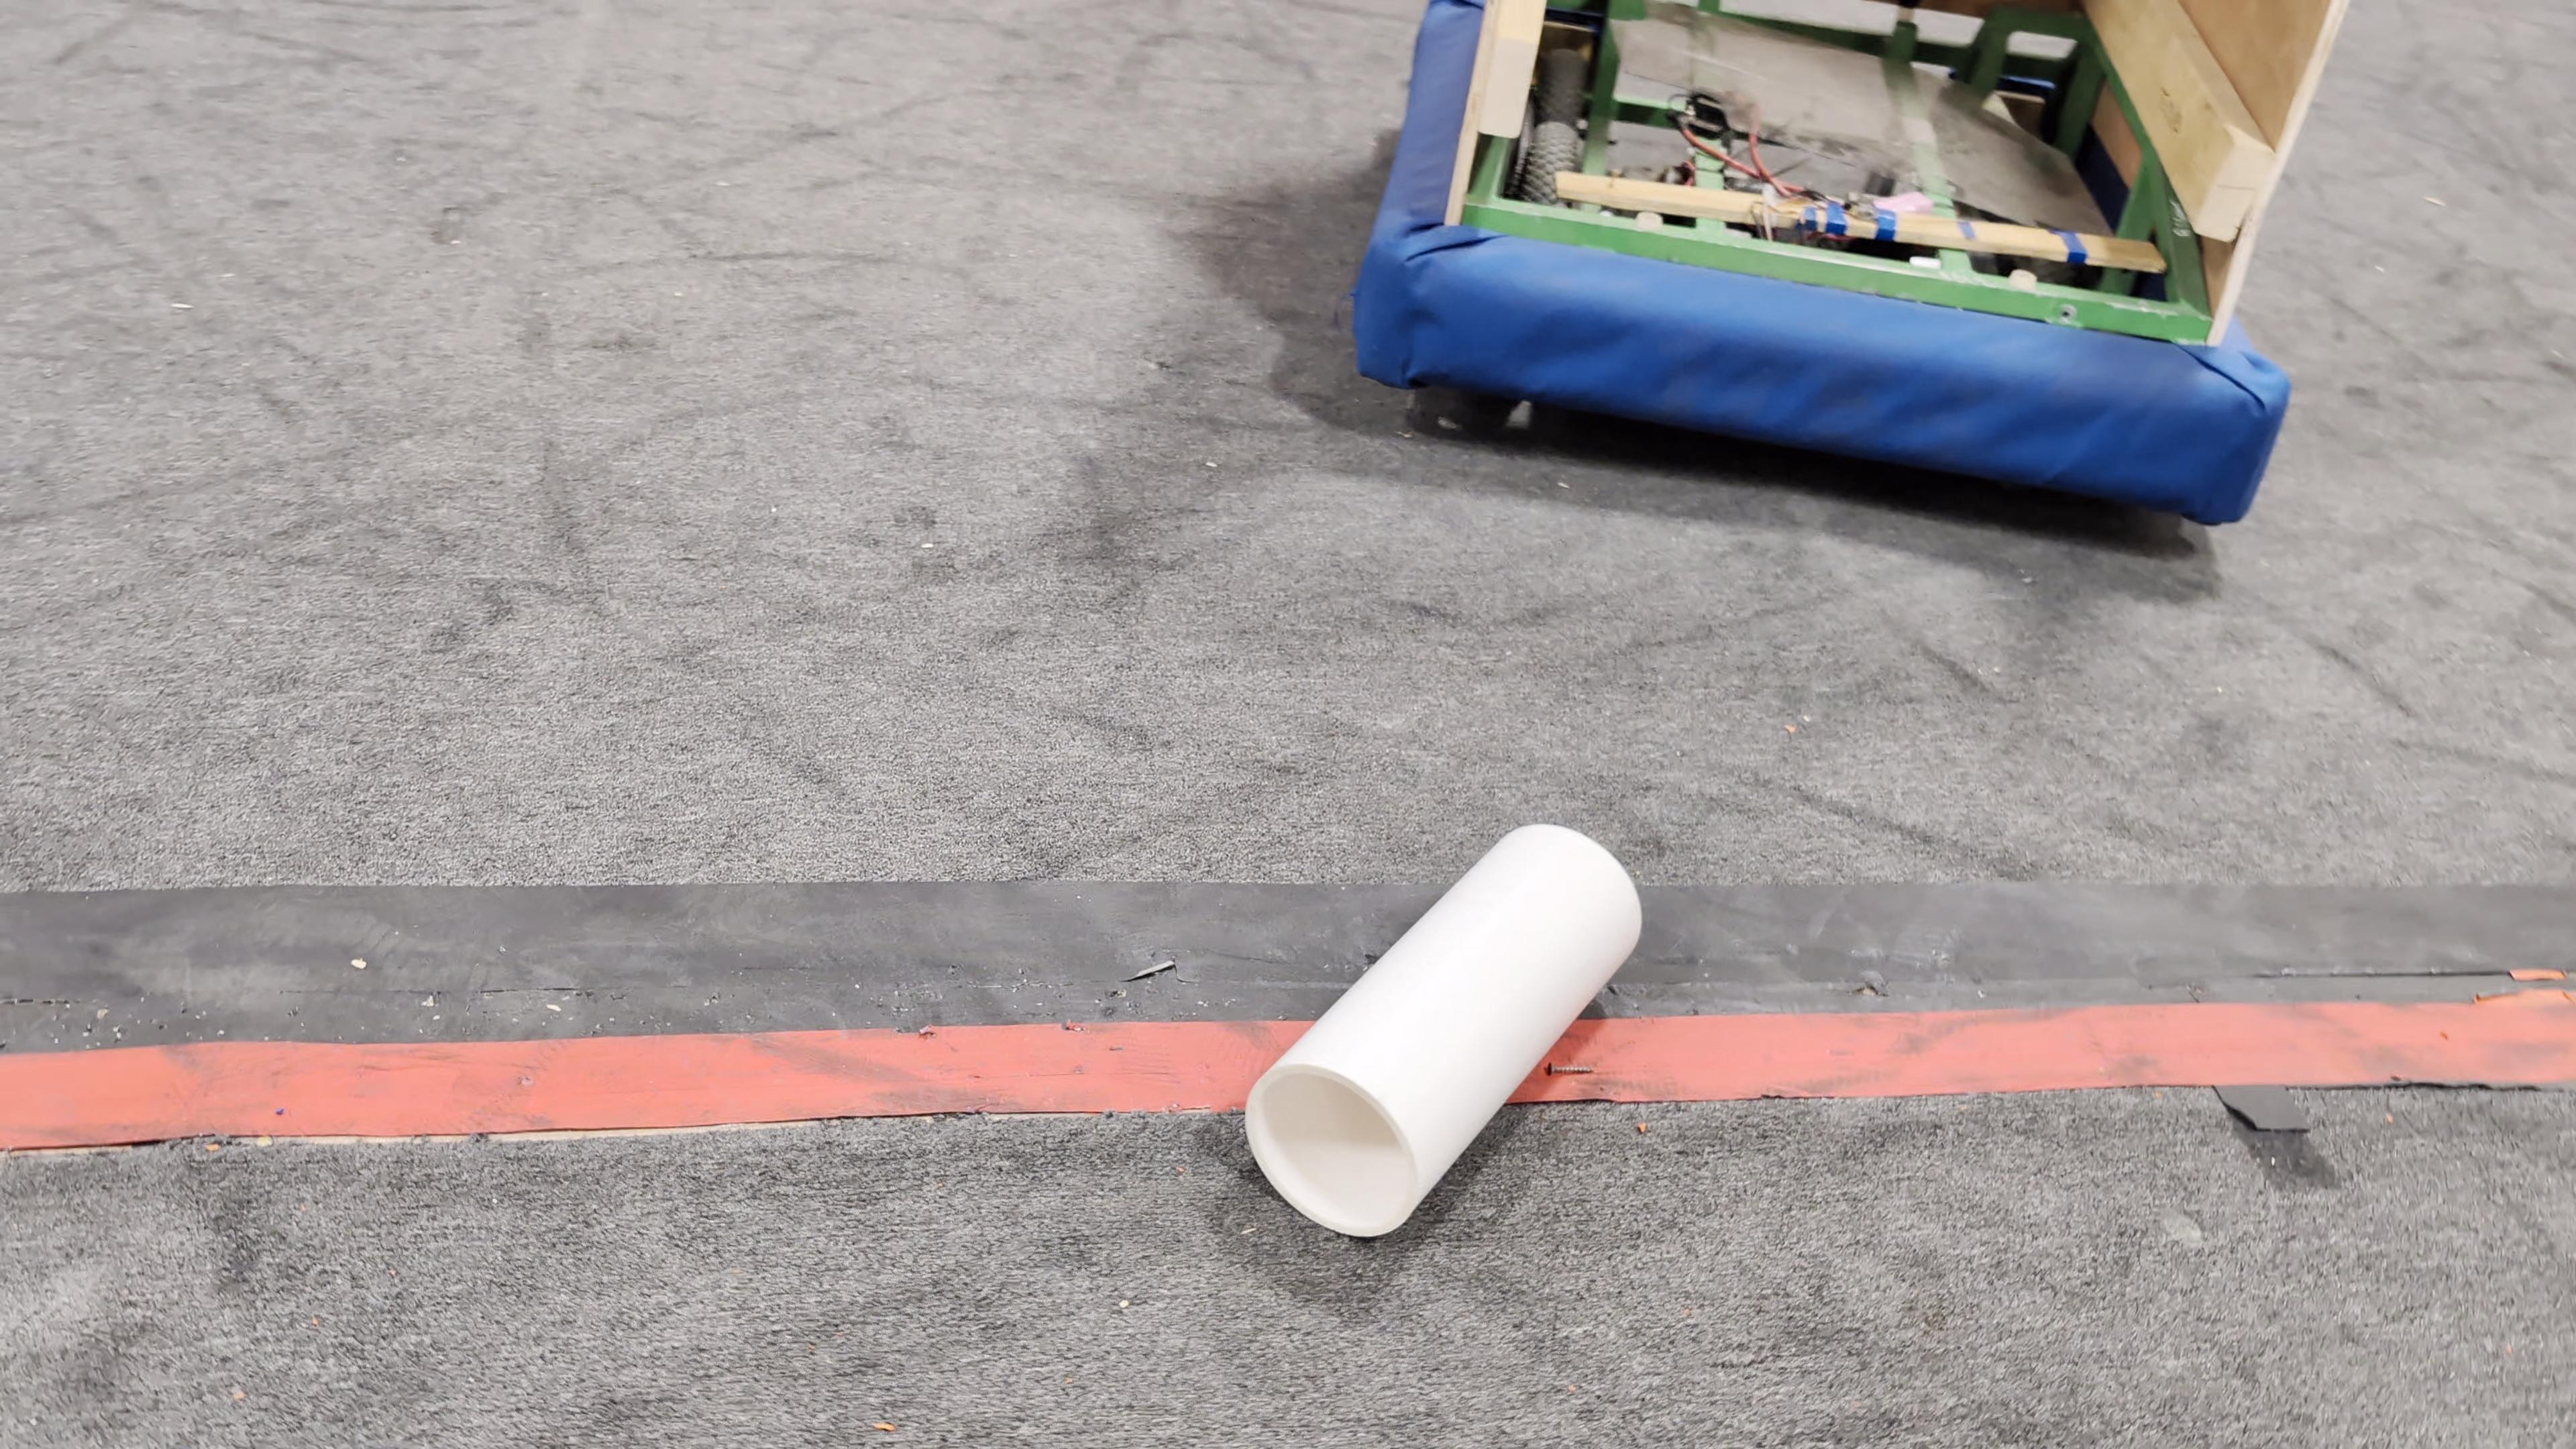coral: (1246, 823, 1640, 1237)
